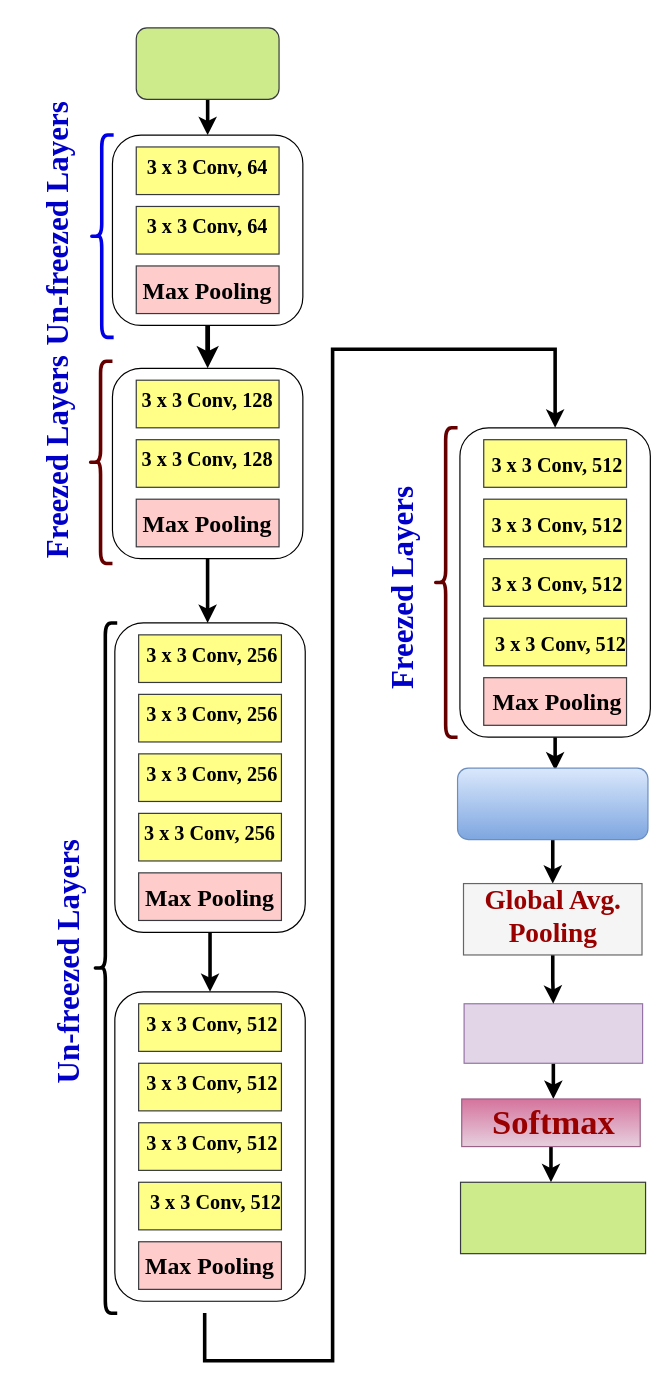
Some shapes in this 672 by 1392 pixel diagram are drawn without their labels. Each missing label, with the centre of its shape:
Class Outputs: (552,1217)
ConvMixer Layer: (552,803)
Fully Connected: (553,1033)
Input: (207,63)
